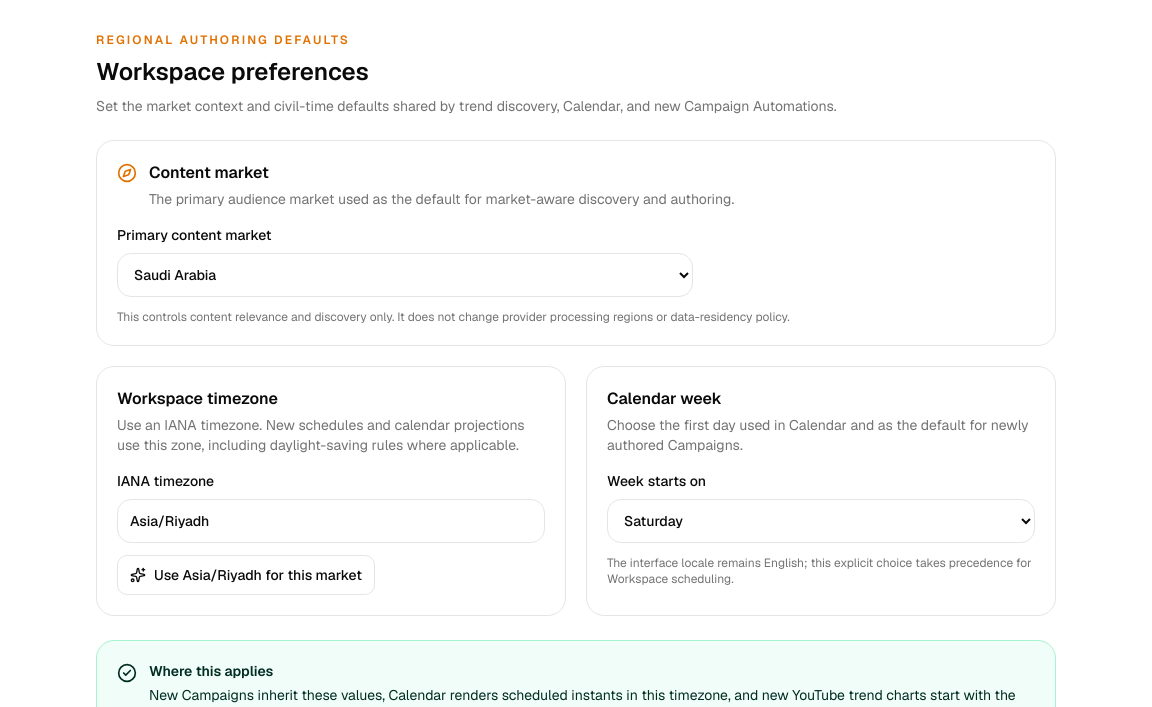
WorkspacePreferencesSettings › persists market, timezone, and week-start to the active Workspace
Select "United Arab Emirates" in the dropdown labelled "Primary content market": (405, 275) left=117, top=253, right=693, bottom=297
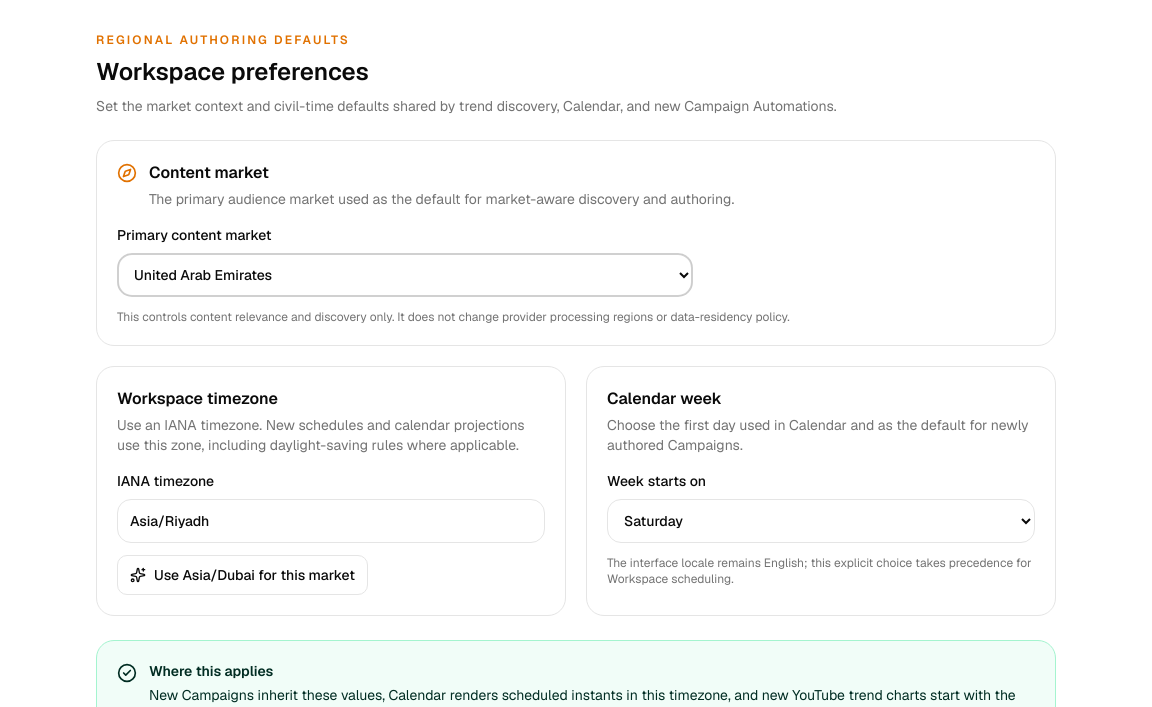
Click the button "Use Asia/Dubai for this market": (242, 575) left=117, top=555, right=368, bottom=595
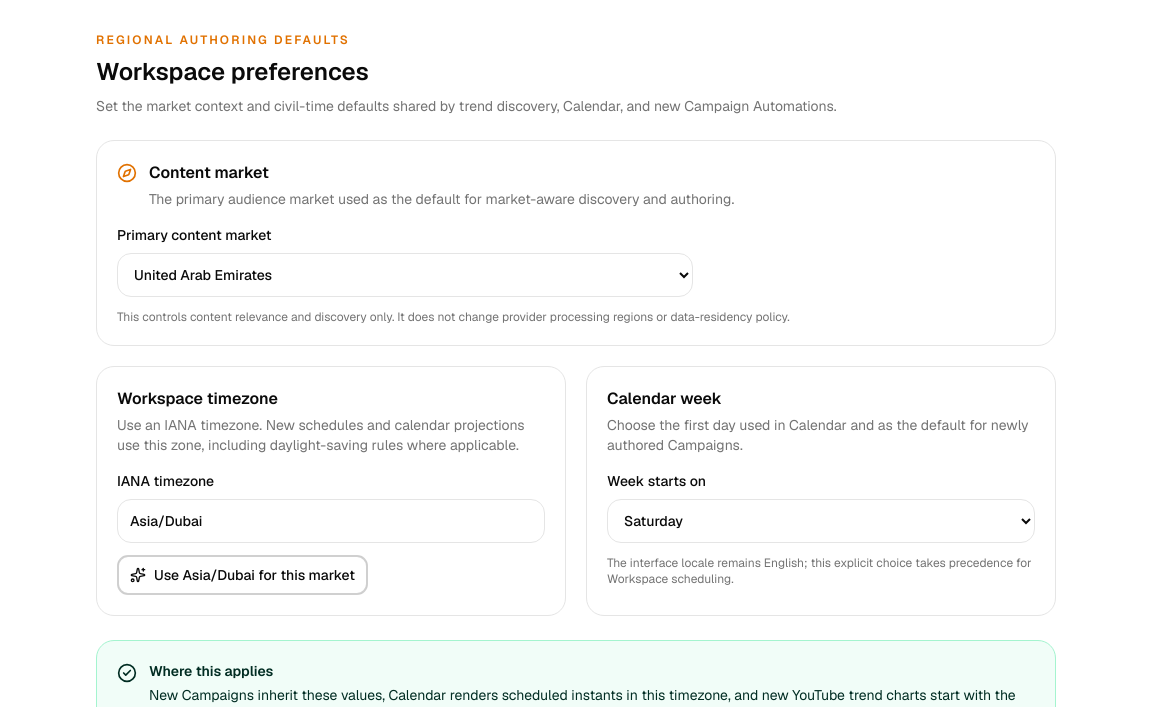
Select "Monday" in the dropdown labelled "Week starts on": (821, 521) left=607, top=499, right=1035, bottom=543
(page scrolled)
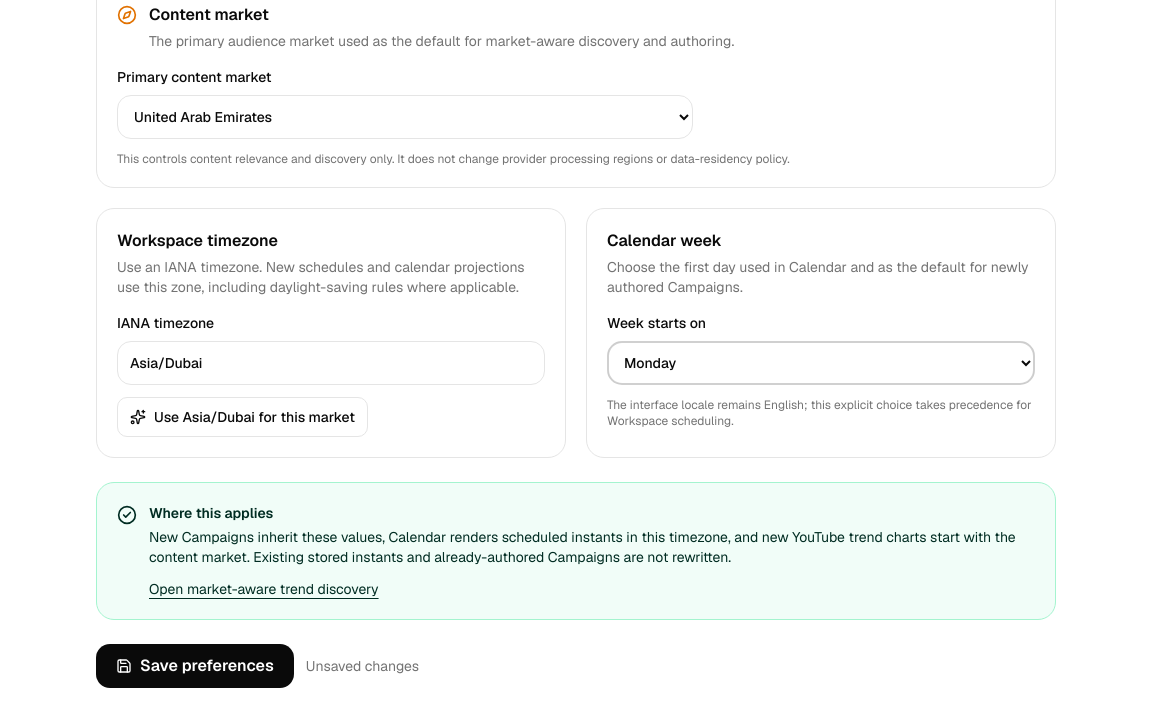
Click the button "Save preferences": (195, 666) left=96, top=644, right=294, bottom=688
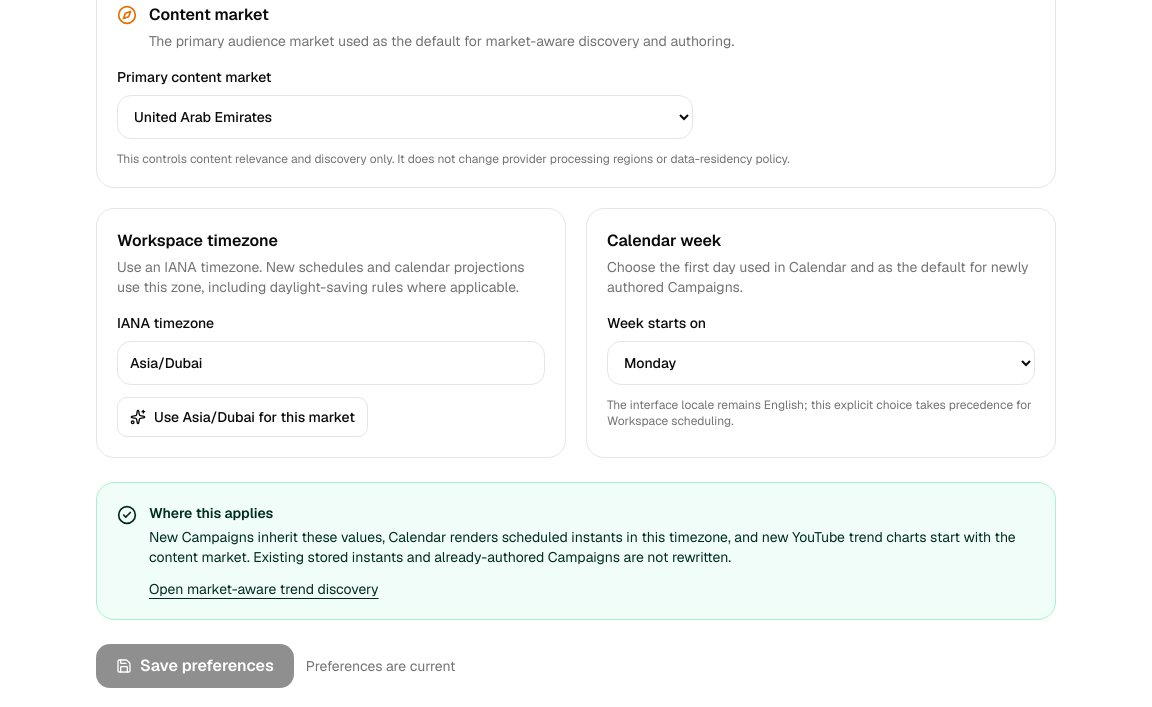
Expected: the text "Preferences are current" is shown, left=306, top=656, right=456, bottom=676
